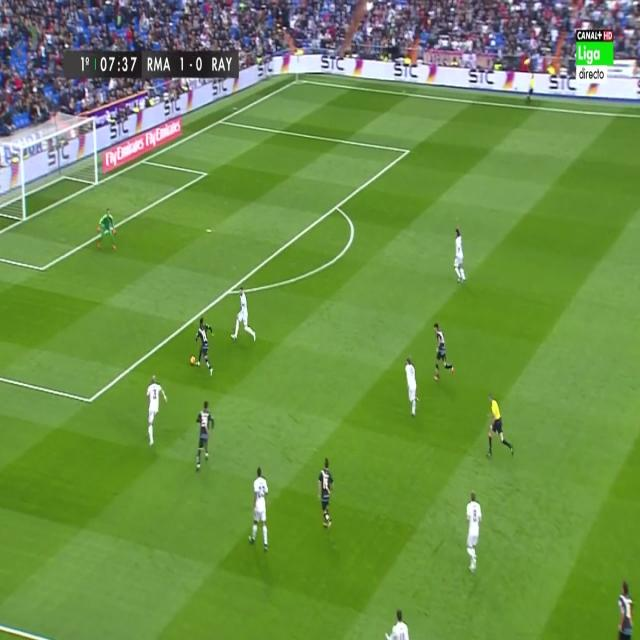Ball: (188, 353, 197, 367)
Goalkeeper: (96, 206, 118, 256)
Player: (247, 464, 273, 556), (192, 399, 215, 478), (463, 490, 484, 575), (144, 374, 168, 448), (229, 285, 258, 346), (431, 320, 454, 385), (316, 455, 335, 532), (613, 577, 635, 640), (194, 315, 214, 377), (404, 353, 422, 421), (453, 224, 469, 284), (384, 603, 409, 640)
Referee: (484, 388, 514, 461), (524, 69, 537, 109)
